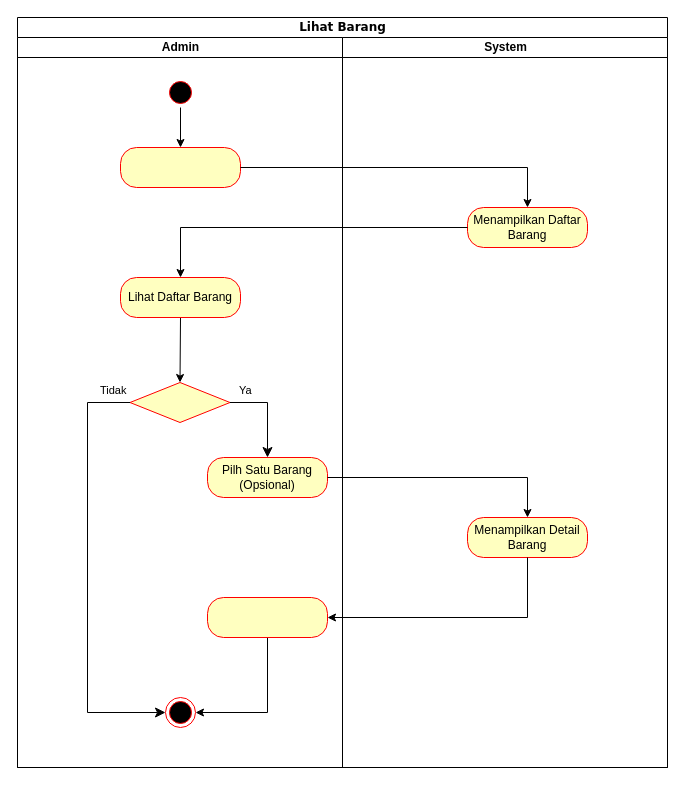
Some shapes in this 685 by 785 pixel diagram are drawn without their labels. Here are the shapes that lost their labels. From the top down, the box of each, then its label:
(120, 146, 240, 188): Pilih Menu Barang
(129, 382, 230, 422): Lihat Detai?l
(206, 596, 328, 638): Lihat Detail Barang
